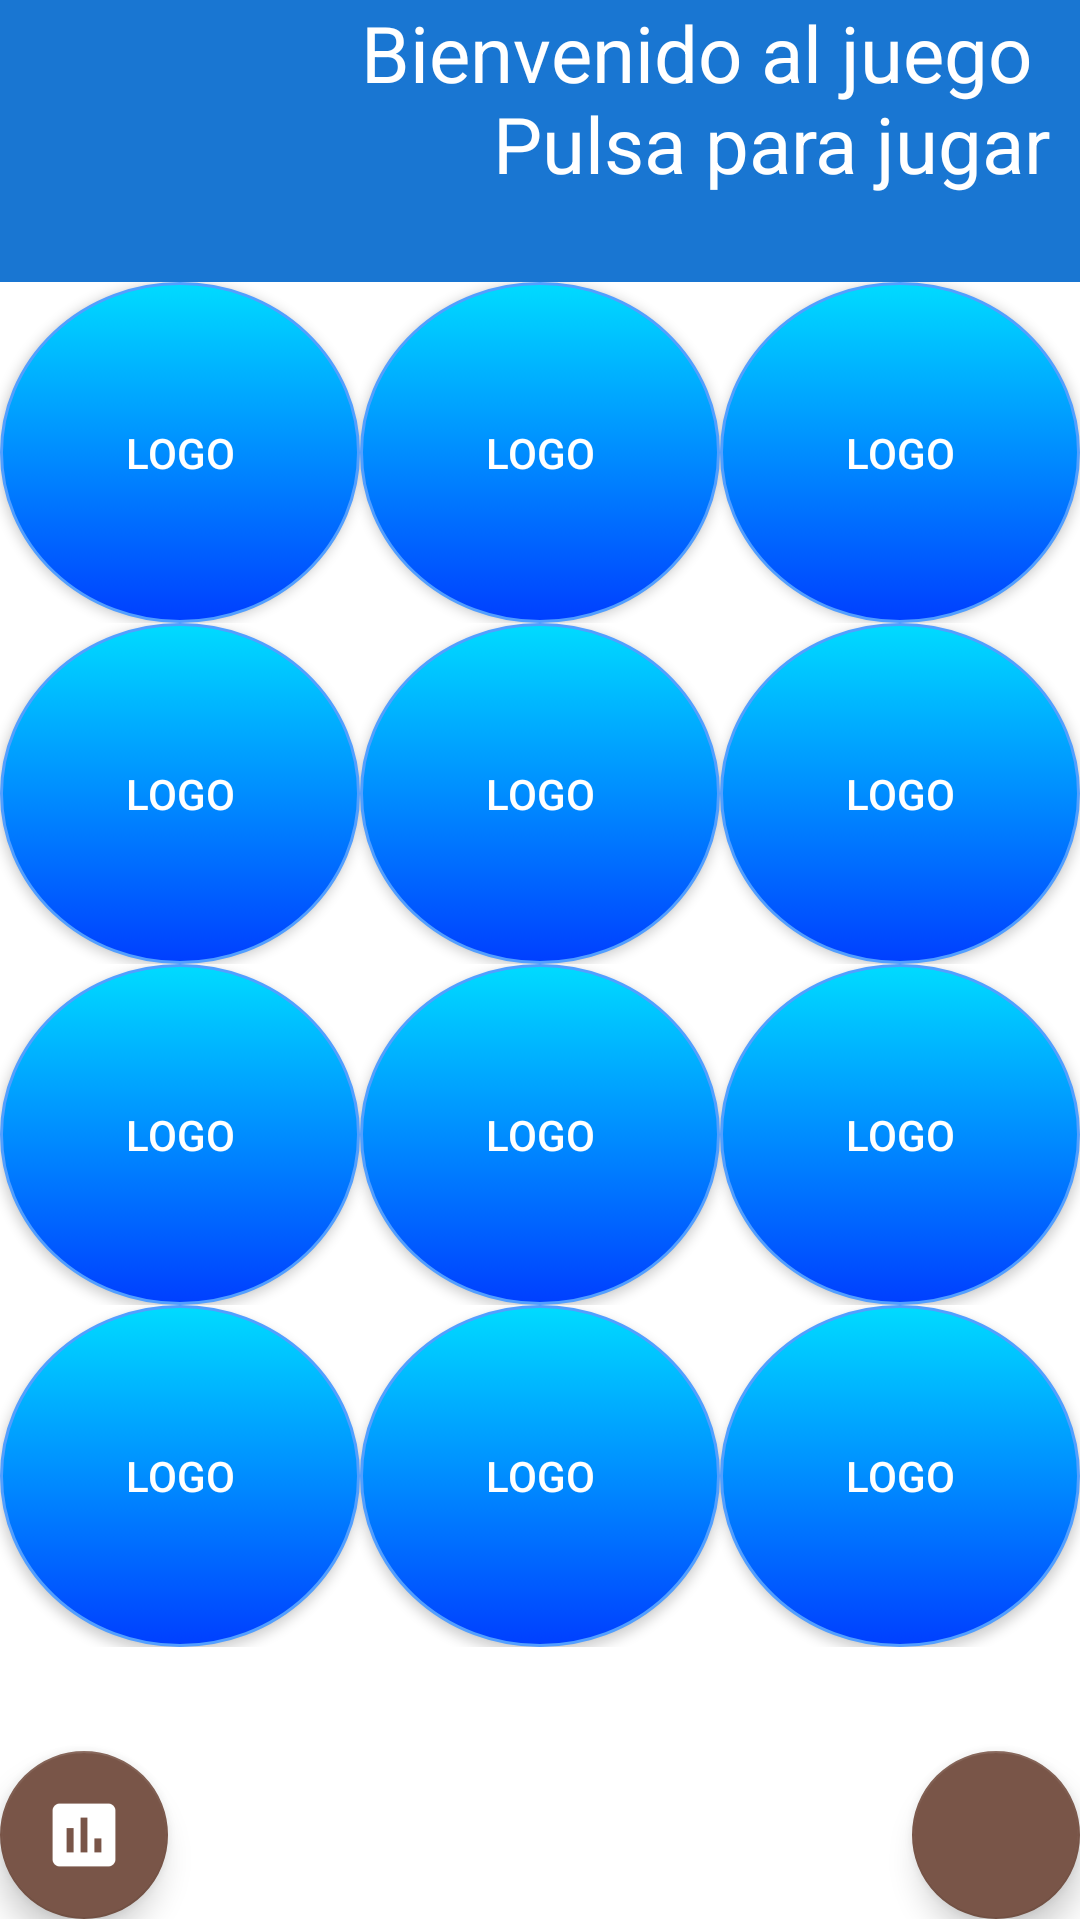

Point at icon controls on the screen. Image size 1080w x 1920h, points as point (x, y).
historial: point (84, 1835)
